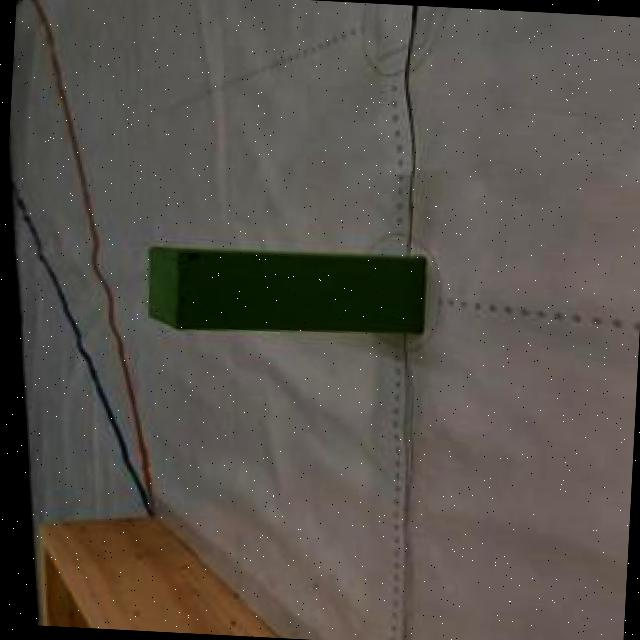greenbox: (140, 238, 432, 340)
